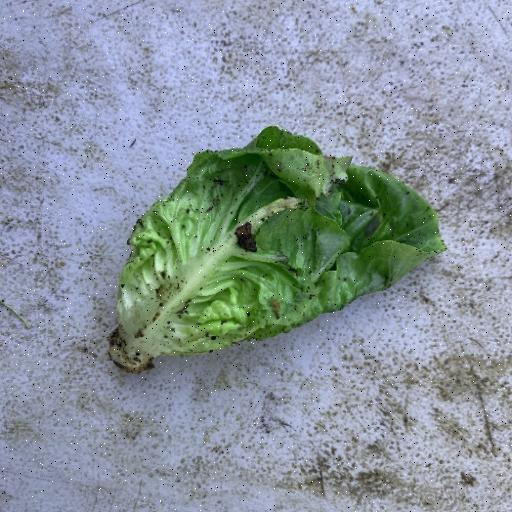Waste: (106, 124, 446, 374)
